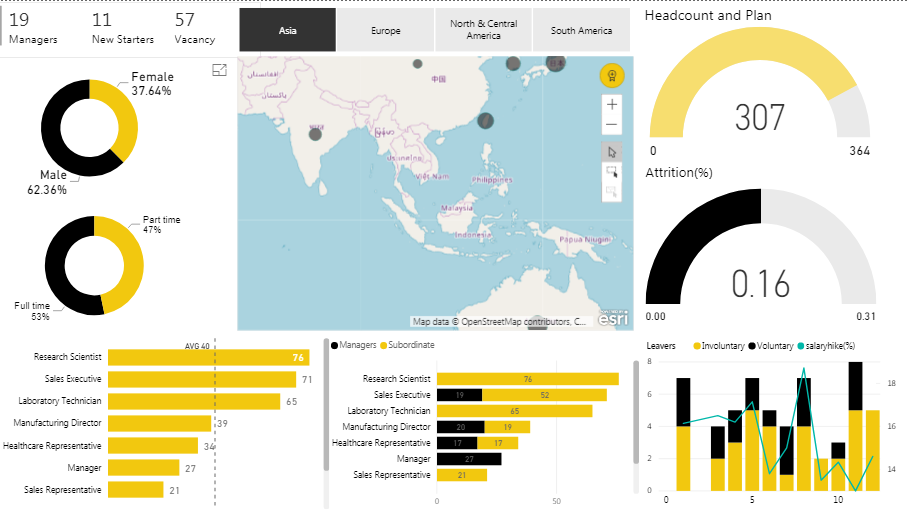

The dashboard page shown, as its layout file describes it:
{"tool":"powerbi","page":{"name":"第 1 頁","canvas":[1280,720],"ordinal":0},"visuals":[{"type":"donutChart","fields":{"Category":["WA_Fn-UseC_-HR-Employee-Attriti.Gender"],"Y":["CountNonNull(WA_Fn-UseC_-HR-Employee-Attriti.Gender)"]},"box":[4.2,77.2,254,202.1],"z":1},{"type":"multiRowCard","fields":{"Values":["WA_Fn-UseC_-HR-Employee-Attriti.JobLevel 的計數 (5)","WA_Fn-UseC_-HR-Employee-Attriti.YearsAtCompany 的計數 (0)","WA_Fn-UseC_-HR-Employee-Attriti.Attrition 的計數 (Yes)"]},"box":[0,1.4,371.9,78.6],"z":2},{"type":"donutChart","fields":{"Category":["WA_Fn-UseC_-HR-Employee-Attriti.worktype"],"Y":["CountNonNull(WA_Fn-UseC_-HR-Employee-Attriti.worktype)"]},"box":[0,270.9,276.5,200.7],"z":3},{"type":"clusteredBarChart","fields":{"Category":["WA_Fn-UseC_-HR-Employee-Attriti.JobRole"],"Y":["CountNonNull(WA_Fn-UseC_-HR-Employee-Attriti.JobRole)"]},"box":[2.8,460.4,470.2,258.2],"z":4},{"type":"barChart","fields":{"Category":["WA_Fn-UseC_-HR-Employee-Attriti.JobRole"],"Y":["CountNonNull(WA_Fn-UseC_-HR-Employee-Attriti.JobLevel)"],"Series":["WA_Fn-UseC_-HR-Employee-Attriti.joblevel_class"]},"box":[465.2,465.2,442.6,255.2],"z":5},{"type":"slicer","title":"GLOBAL","fields":{"Values":["WA_Fn-UseC_-HR-Employee-Attriti.工作表5.Region"]},"box":[315.8,2.8,597.7,74.7],"z":6},{"type":"esriVisual","fields":{"Latitude":["WA_Fn-UseC_-HR-Employee-Attriti.工作表5.latitude"],"Longitude":["WA_Fn-UseC_-HR-Employee-Attriti.工作表5.longitude"],"Location":["WA_Fn-UseC_-HR-Employee-Attriti.工作表5.Country"],"Size":["CountNonNull(WA_Fn-UseC_-HR-Employee-Attriti.EmployeeNumber)"]},"box":[332.7,71.9,566.7,396.1],"z":7},{"type":"gauge","title":"Headcount and Plan","fields":{"MaxValue":["CountNonNull(WA_Fn-UseC_-HR-Employee-Attriti.Attrition)"],"Y":["WA_Fn-UseC_-HR-Employee-Attriti.Attrition 的計數 (No)"]},"box":[905.5,4.8,334.1,222.7],"z":8},{"type":"gauge","title":"Attrition(%)","fields":{"Y":["WA_Fn-UseC_-HR-Employee-Attriti.Attrition 的計數 (Yes) 除以 Attrition 的計數"]},"box":[906,228,334,237],"z":9},{"type":"lineStackedColumnComboChart","fields":{"Category":["WA_Fn-UseC_-HR-Employee-Attriti.month.month"],"Series":["WA_Fn-UseC_-HR-Employee-Attriti.month.type"],"Y":["CountNonNull(WA_Fn-UseC_-HR-Employee-Attriti.month.type)"],"Y2":["Avg(WA_Fn-UseC_-HR-Employee-Attriti.PercentSalaryHike)"]},"box":[908.1,464.6,360.7,254],"z":10}]}

Visuals, with their boxes in screenshot pixels (x1, y1, x2, y2), scaled from the page's 1280x720 canvas onto the 908x511 screenshot:
donutChart - WA_Fn-UseC_-HR-Employee-Attriti.Gender x CountNonNull(WA_Fn-UseC_-HR-Employee-Attriti.Gender): bbox=[3, 55, 183, 198]
multiRowCard - WA_Fn-UseC_-HR-Employee-Attriti.JobLevel 的計數 (5) x WA_Fn-UseC_-HR-Employee-Attriti.YearsAtCompany 的計數 (0): bbox=[0, 1, 264, 57]
donutChart - WA_Fn-UseC_-HR-Employee-Attriti.worktype x CountNonNull(WA_Fn-UseC_-HR-Employee-Attriti.worktype): bbox=[0, 192, 196, 335]
clusteredBarChart - WA_Fn-UseC_-HR-Employee-Attriti.JobRole x CountNonNull(WA_Fn-UseC_-HR-Employee-Attriti.JobRole): bbox=[2, 327, 336, 510]
barChart - WA_Fn-UseC_-HR-Employee-Attriti.JobRole x CountNonNull(WA_Fn-UseC_-HR-Employee-Attriti.JobLevel): bbox=[330, 330, 644, 510]
"GLOBAL" slicer: bbox=[224, 2, 648, 55]
esriVisual - WA_Fn-UseC_-HR-Employee-Attriti.工作表5.latitude x WA_Fn-UseC_-HR-Employee-Attriti.工作表5.longitude: bbox=[236, 51, 638, 332]
"Headcount and Plan" gauge: bbox=[642, 3, 879, 161]
"Attrition(%)" gauge: bbox=[643, 162, 880, 330]
lineStackedColumnComboChart - WA_Fn-UseC_-HR-Employee-Attriti.month.month x WA_Fn-UseC_-HR-Employee-Attriti.month.type: bbox=[644, 330, 900, 510]
